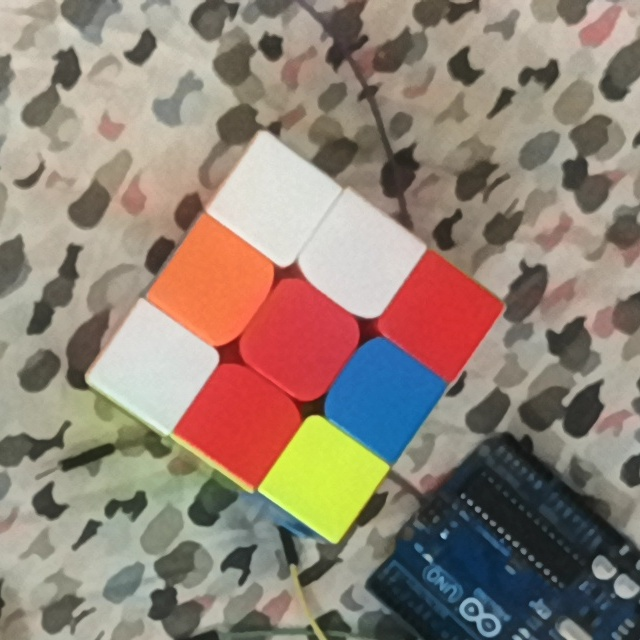tile: (181, 247, 252, 318), (119, 334, 189, 405), (326, 222, 394, 293), (207, 387, 275, 457), (240, 168, 312, 232), (269, 303, 335, 371), (407, 284, 475, 347), (352, 365, 414, 431), (293, 448, 357, 508)
